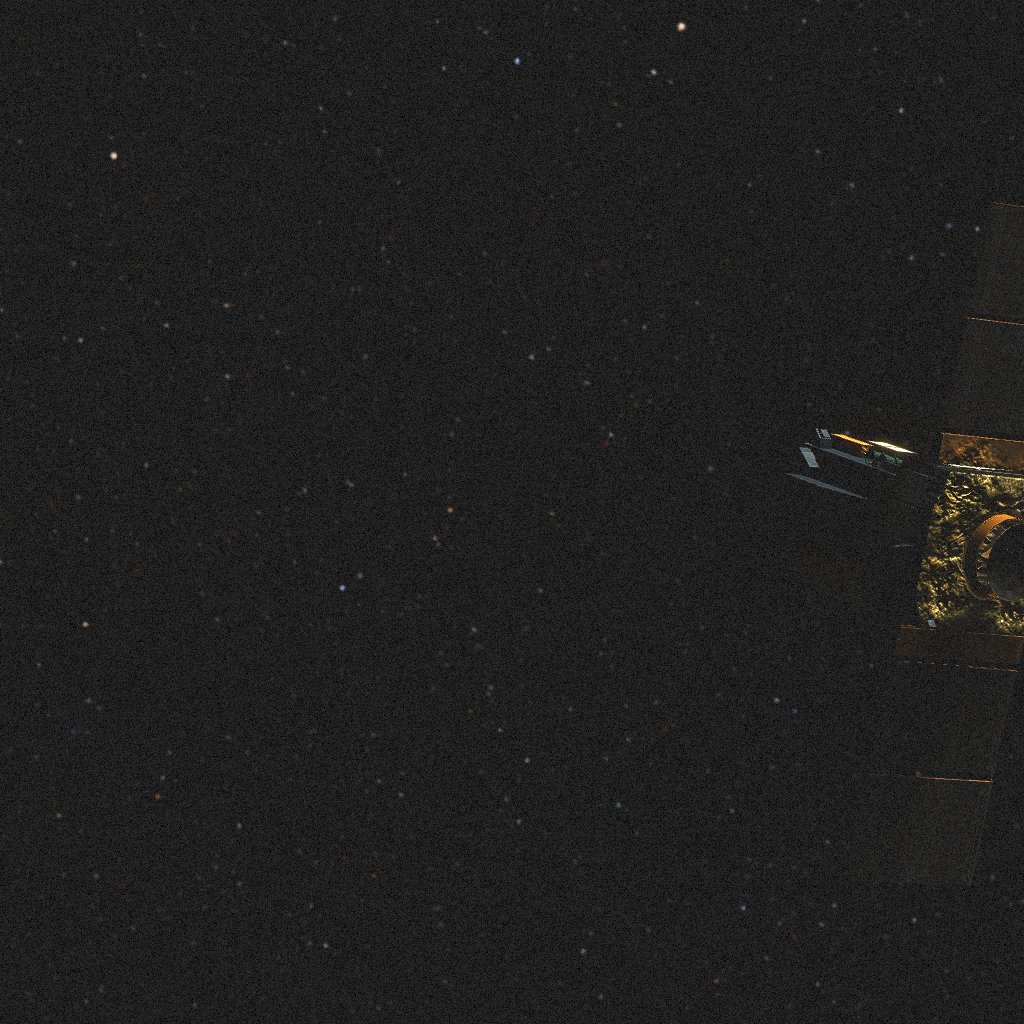soho: (721, 196, 1009, 930)
